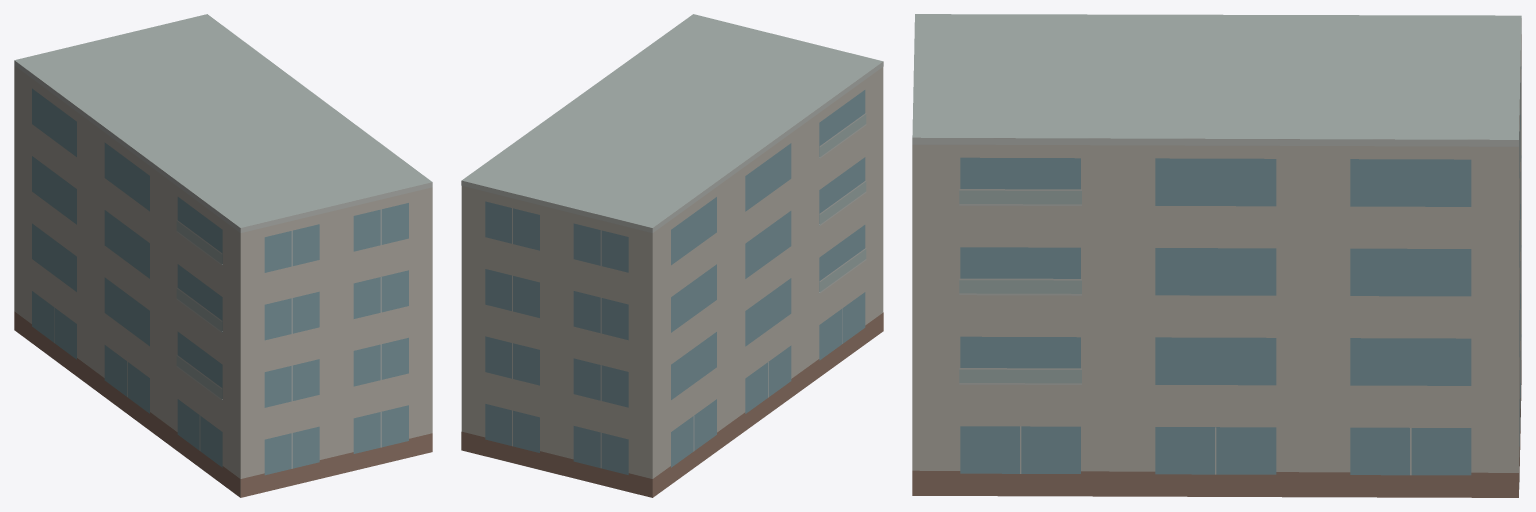
File: survey-upis-32736615.glb
3 renders of one model, left to right at view 1: azimuth 30°, elevation 25°; view 2: azimuth 150°, elevation 25°; view 3: azimuth 270°, elevation 25°, orthographic. The views are drawn at different scales.
Parts seen in each view (by area): view 1: survey-upis-32736615.tmp; view 2: survey-upis-32736615.tmp; view 3: survey-upis-32736615.tmp.
Boxes of the visible parts, x1,y1,x2,y2 form: survey-upis-32736615.tmp: (14, 14, 432, 497); survey-upis-32736615.tmp: (461, 14, 883, 497); survey-upis-32736615.tmp: (912, 14, 1521, 497).
Size of the model in its own units: 9.76 by 12.9 by 19.9.
